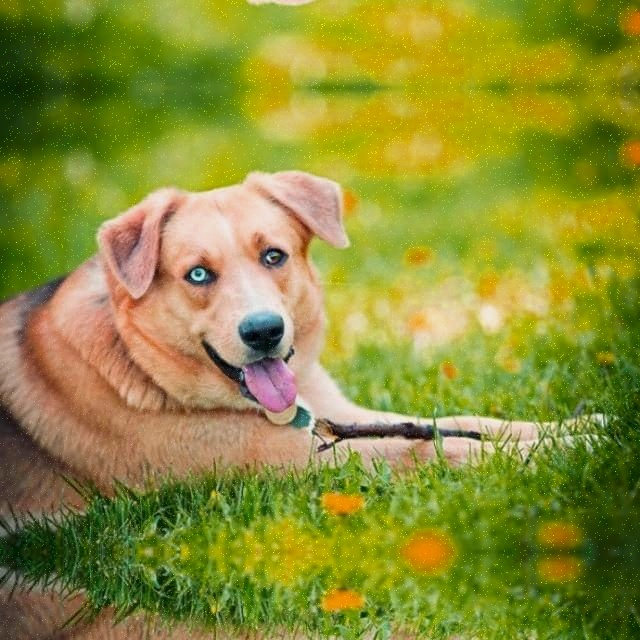dog: (96, 155, 362, 445), (96, 0, 361, 21)
